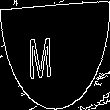M_N: (43, 29, 67, 81)
